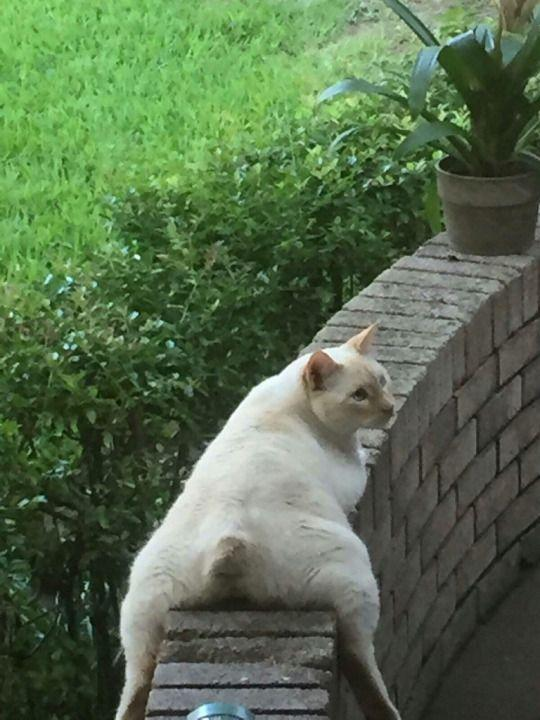kedo: (121, 324, 396, 720)
